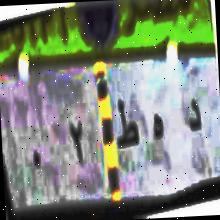0: (25, 141, 45, 180)
2: (67, 114, 86, 170)
Taa: (112, 94, 141, 157)
daal: (182, 85, 206, 142)
haa: (148, 109, 168, 148)
